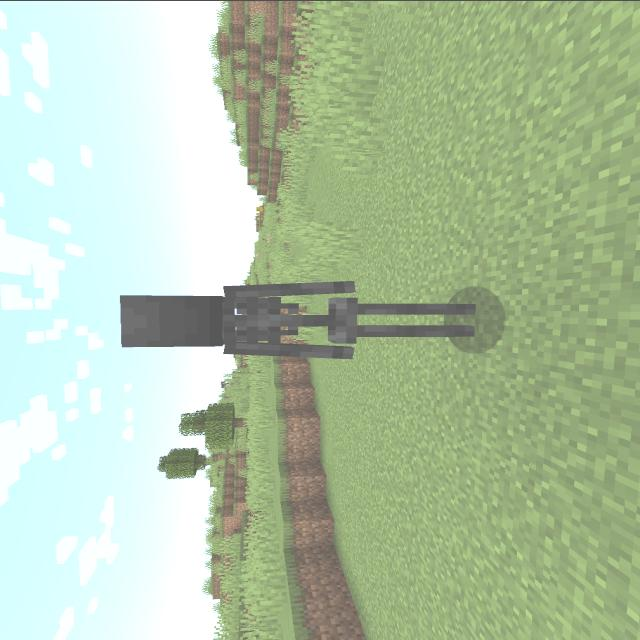Wither Skeleton: (97, 268, 511, 364)
